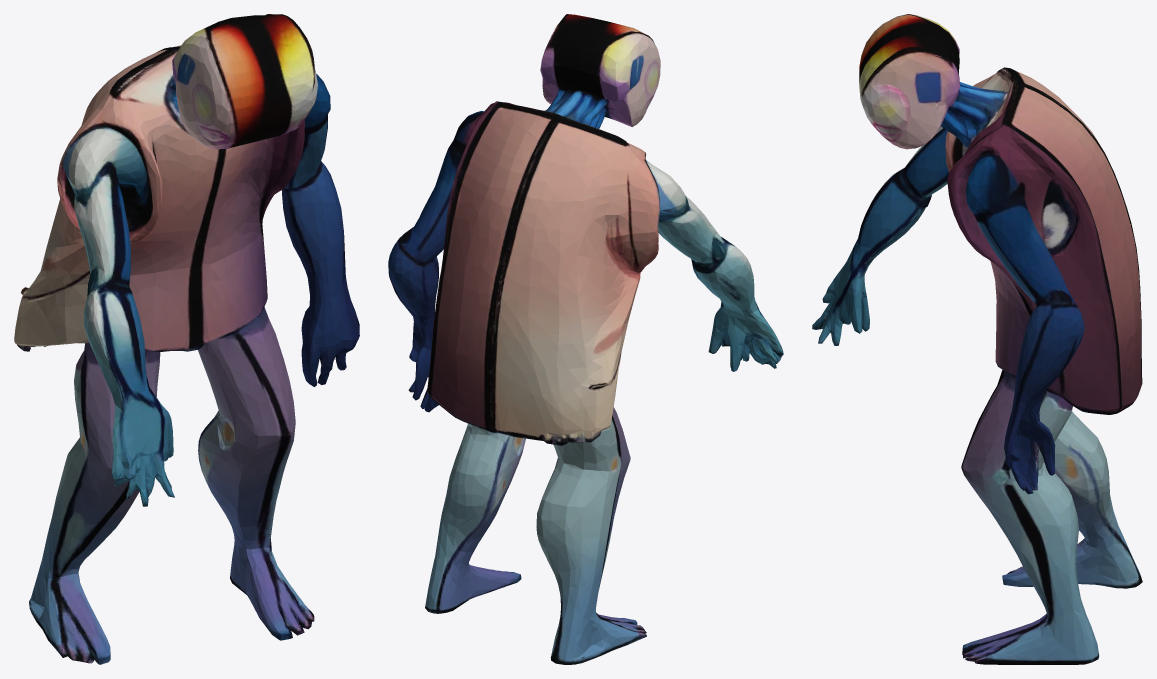
File: zombie.glb
The picture shows the model from 3 angles, left to right: view 1: azimuth 30°, elevation 25°; view 2: azimuth 150°, elevation 25°; view 3: azimuth 270°, elevation 25°; orthographic projection. The views are drawn at different scales.
Parts seen in each view (by area): view 1: geometry_0; view 2: geometry_0; view 3: geometry_0.
Boxes of the visible parts, x1,y1,x2,y2 form: geometry_0: (14, 14, 359, 664); geometry_0: (388, 14, 783, 664); geometry_0: (812, 14, 1142, 664).
Bounding box in the file's own units: 0.9852 × 1.8 × 0.9067.
Materials: 1 (1 with a texture image).
